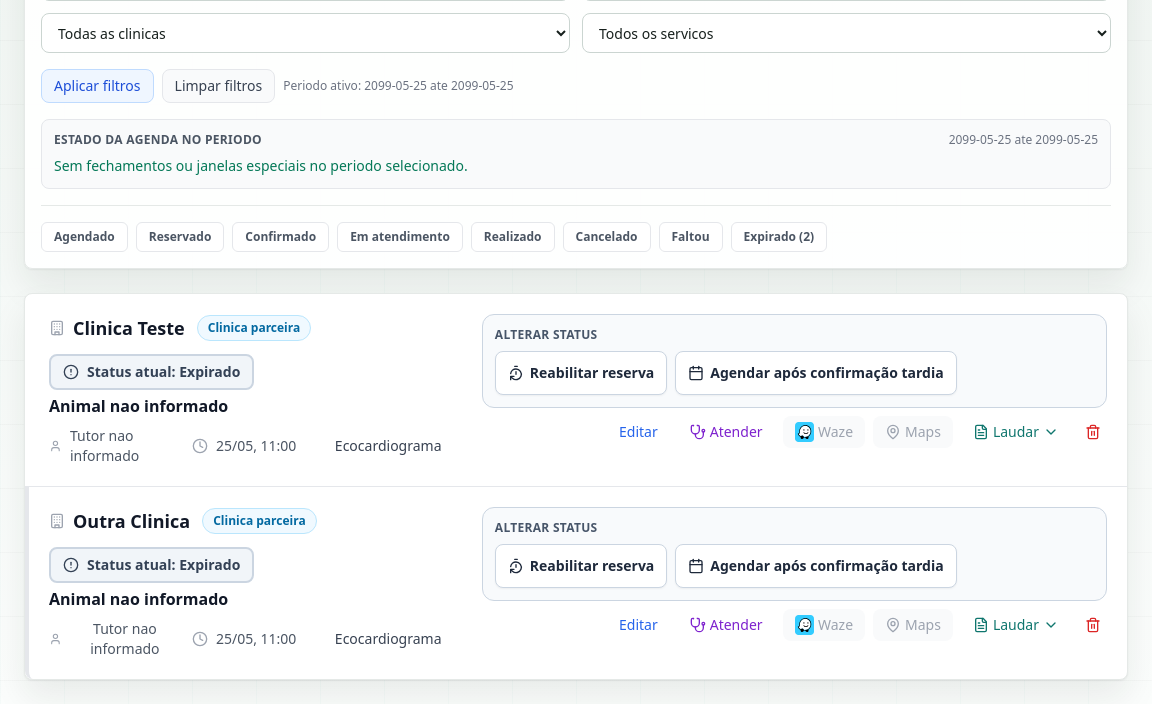
avisos da Agenda › remove o erro anterior ao iniciar outra tentativa de agendar
(page scrolled)
Click the 1st button "Agendar após confirmação tardia": click(816, 373) x1=675 y1=351 x2=957 y2=395
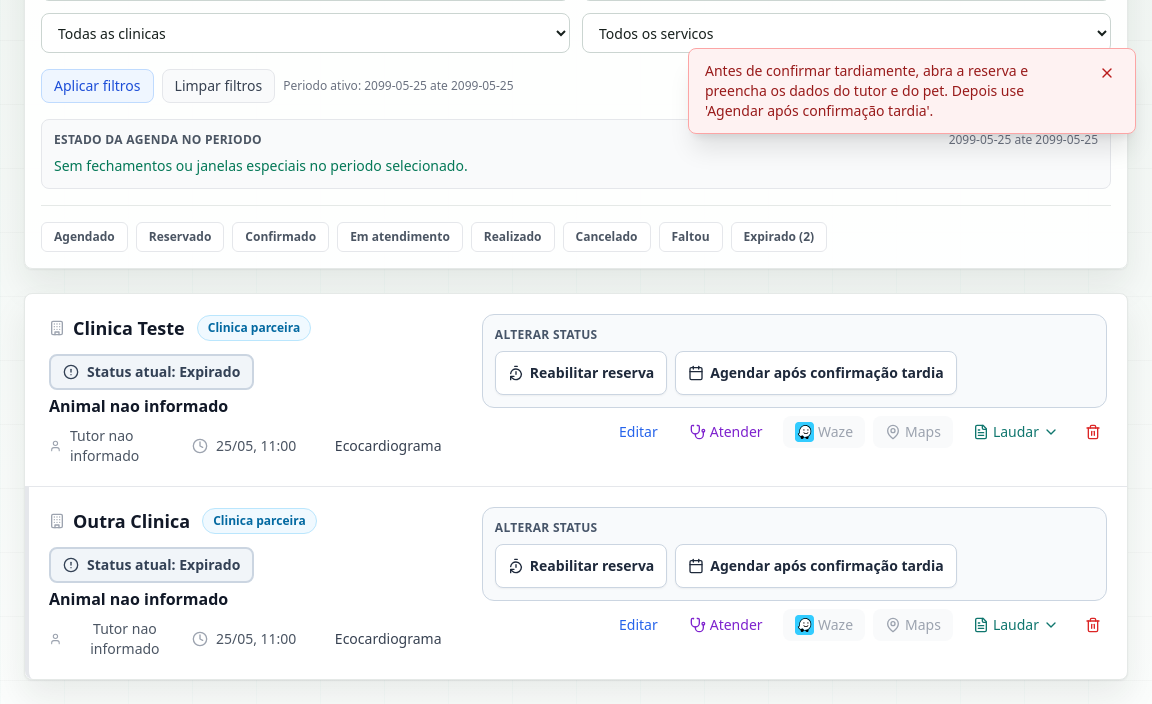
Expected: the message shows "Antes de confirmar tardiamente", x1=705 y1=61 x2=1028 y2=120
Click the 2nd button "Agendar após confirmação tardia": click(816, 566) x1=675 y1=544 x2=957 y2=588
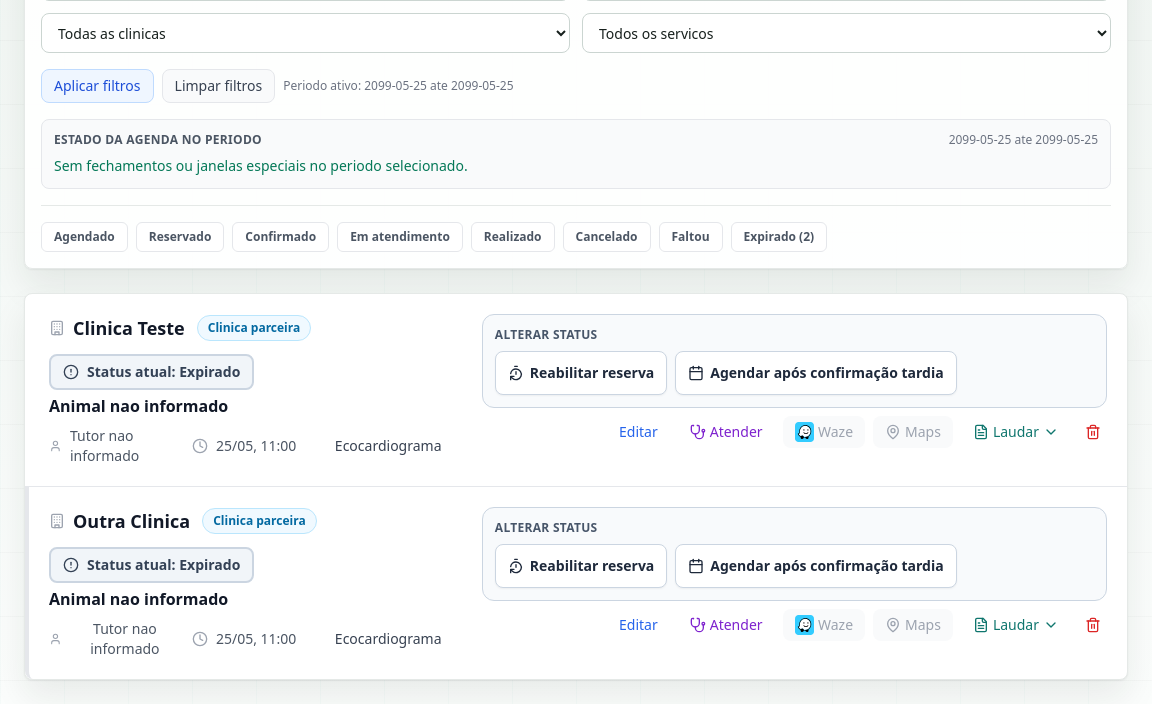
Expected: the message is gone
